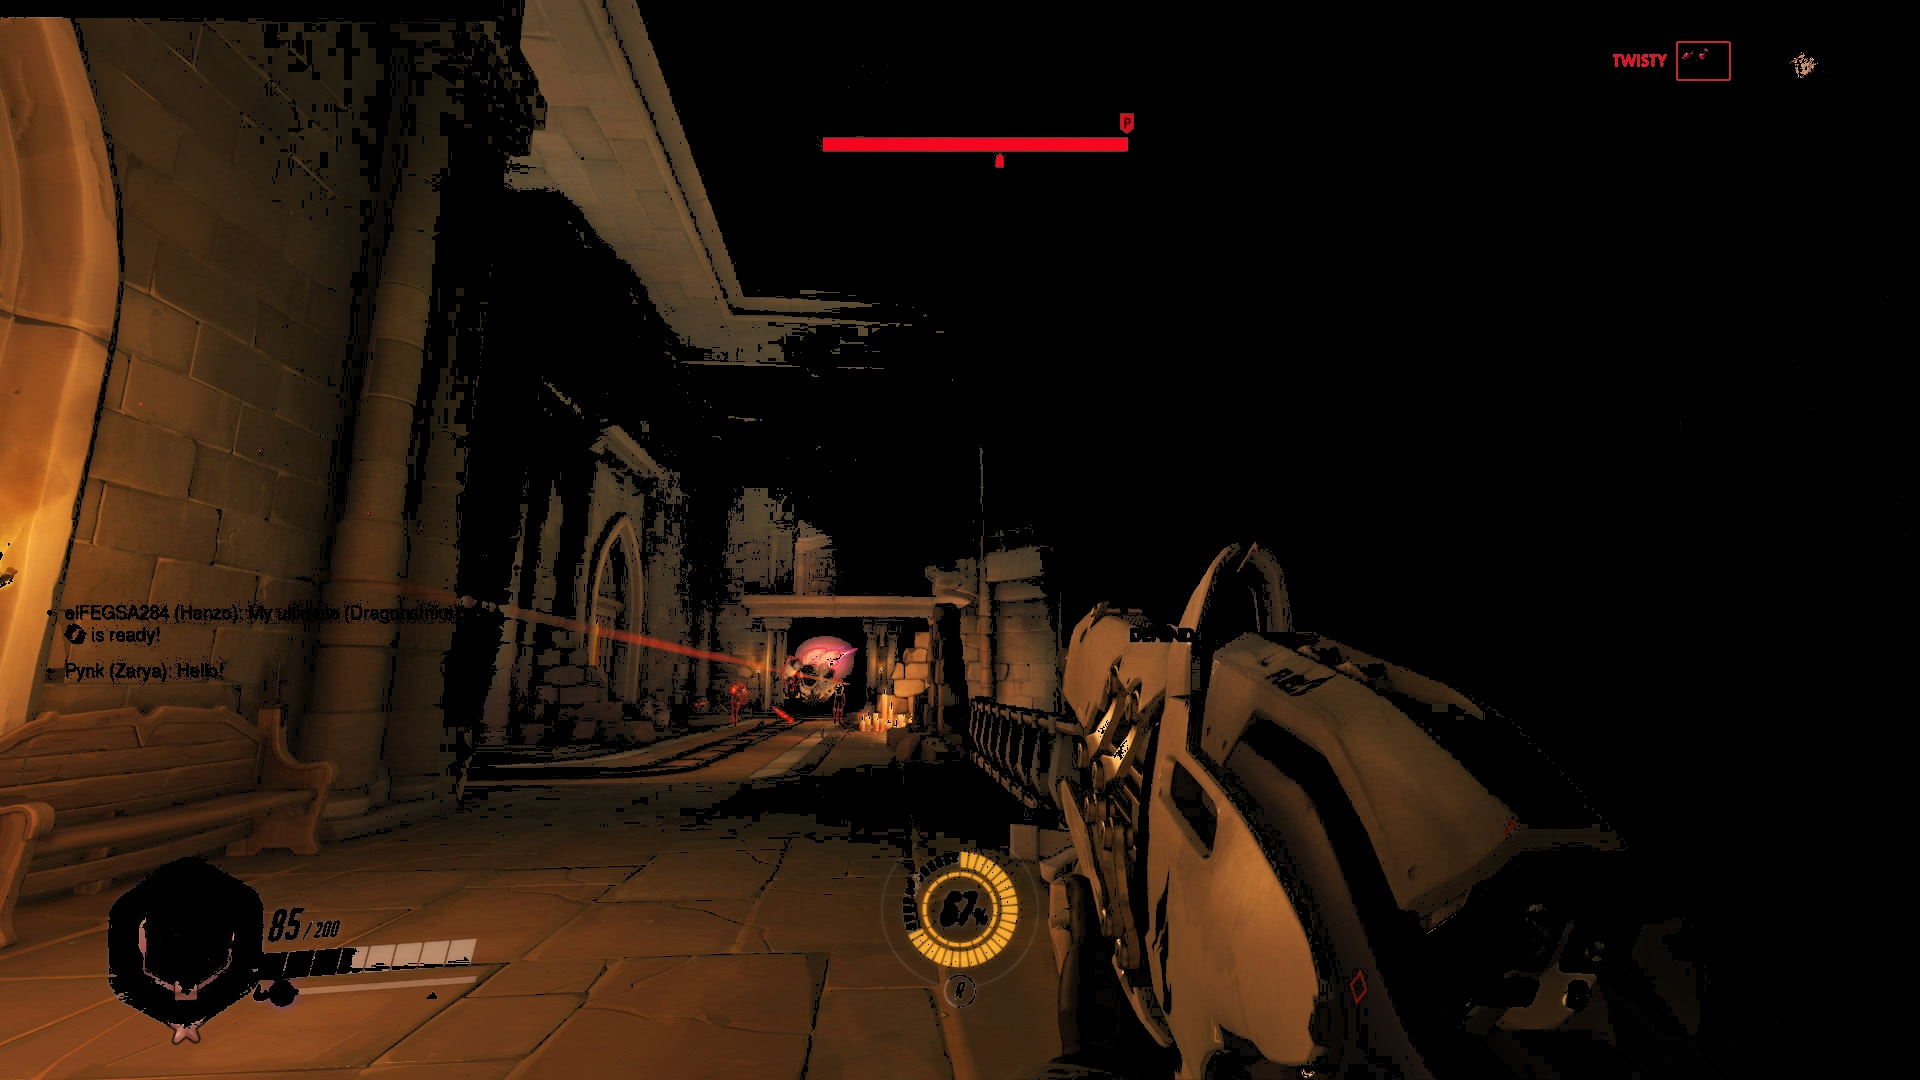widowmaker: (829, 678, 848, 727)
